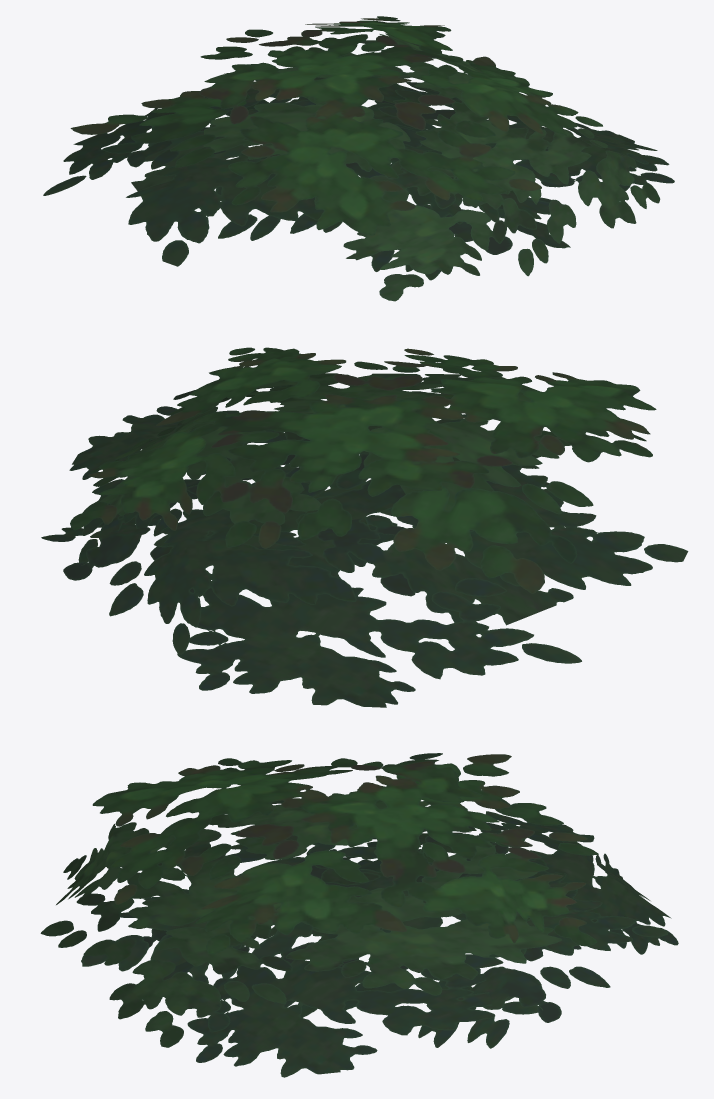
File: cao3.fbx
The picture shows the model from 3 angles, top to bottom: view 1: azimuth 30°, elevation 25°; view 2: azimuth 150°, elevation 25°; view 3: azimuth 270°, elevation 25°; orthographic projection. The views are drawn at different scales.
Parts seen in each view (by area): view 1: cao3; view 2: cao3; view 3: cao3.
Boxes of the visible parts, <box> form: cao3: <box>43,16,674,301</box>; cao3: <box>41,347,688,707</box>; cao3: <box>40,753,678,1077</box>.
Size of the model in its own units: 876 by 192 by 863.
